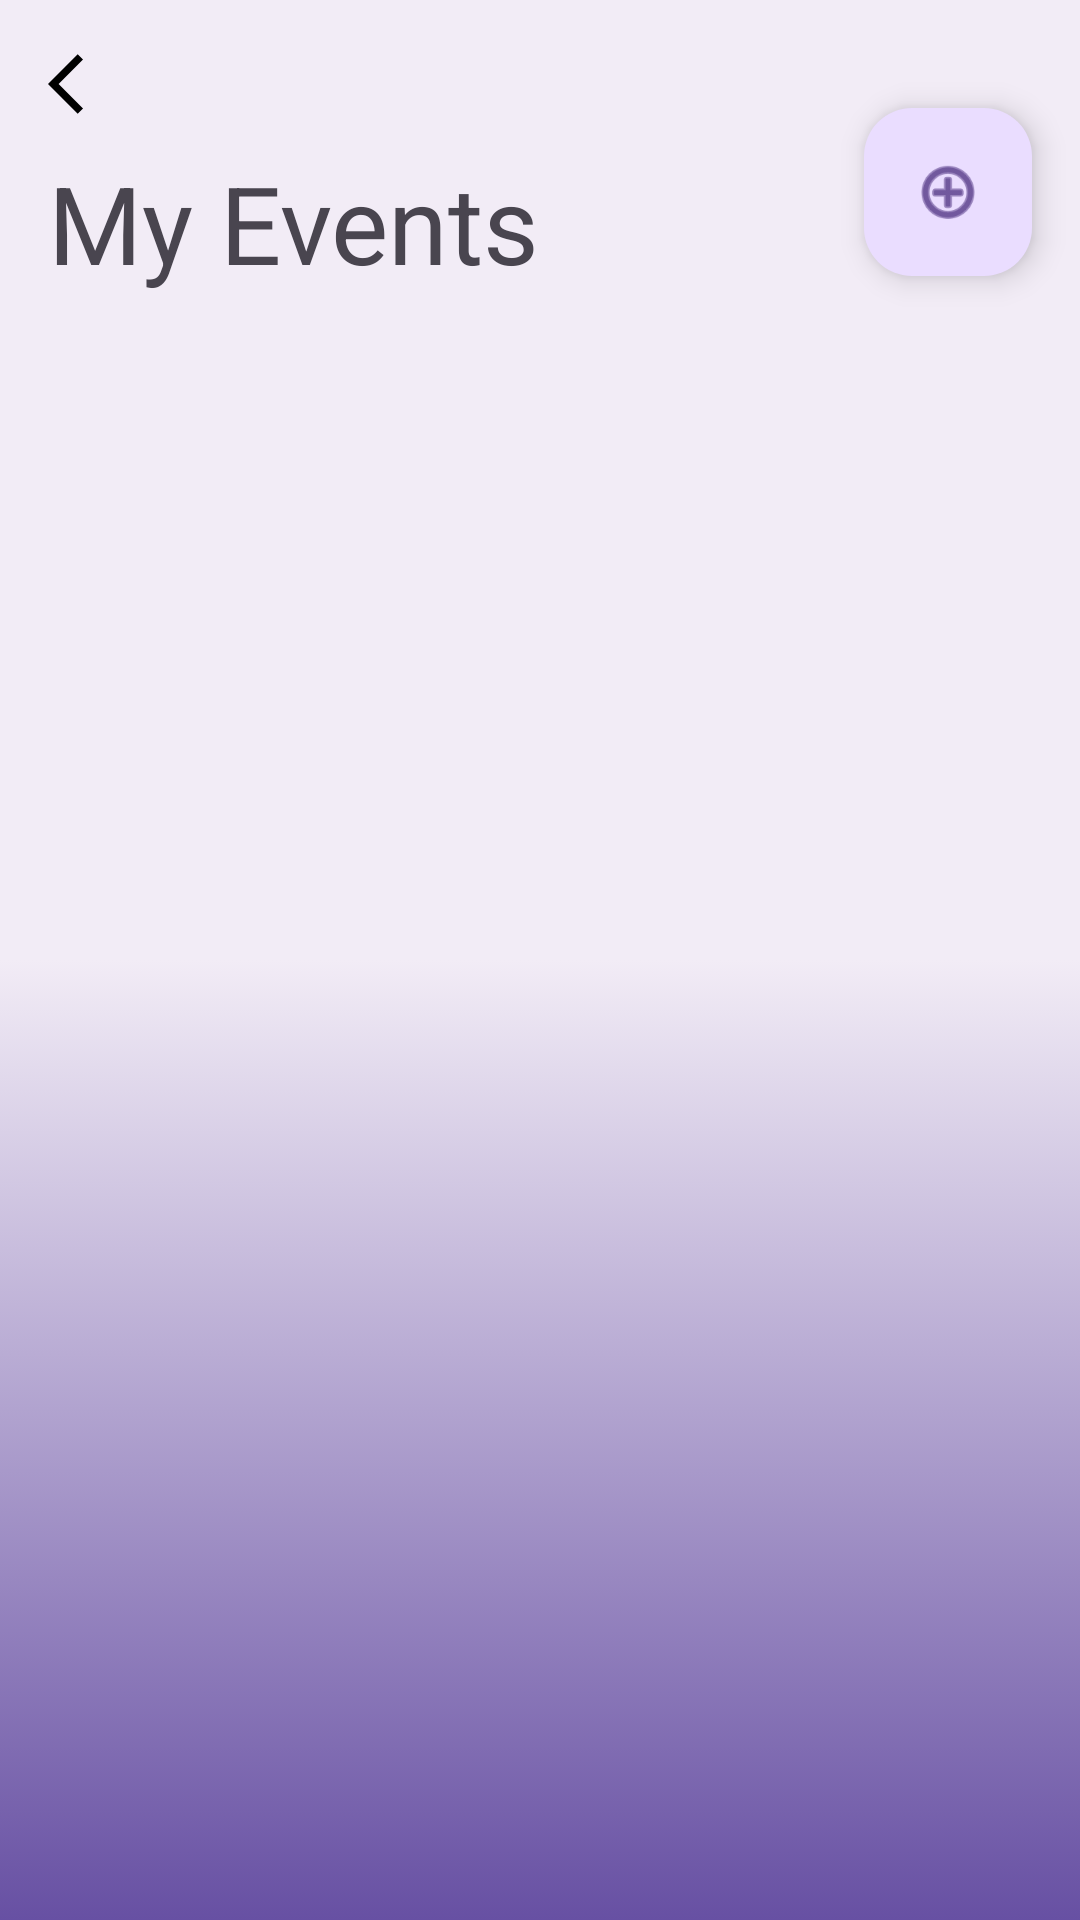

Named icons in this screenshot (1080 × 1920) and their centers, point (x, y):
back arrow: point (65, 84)
